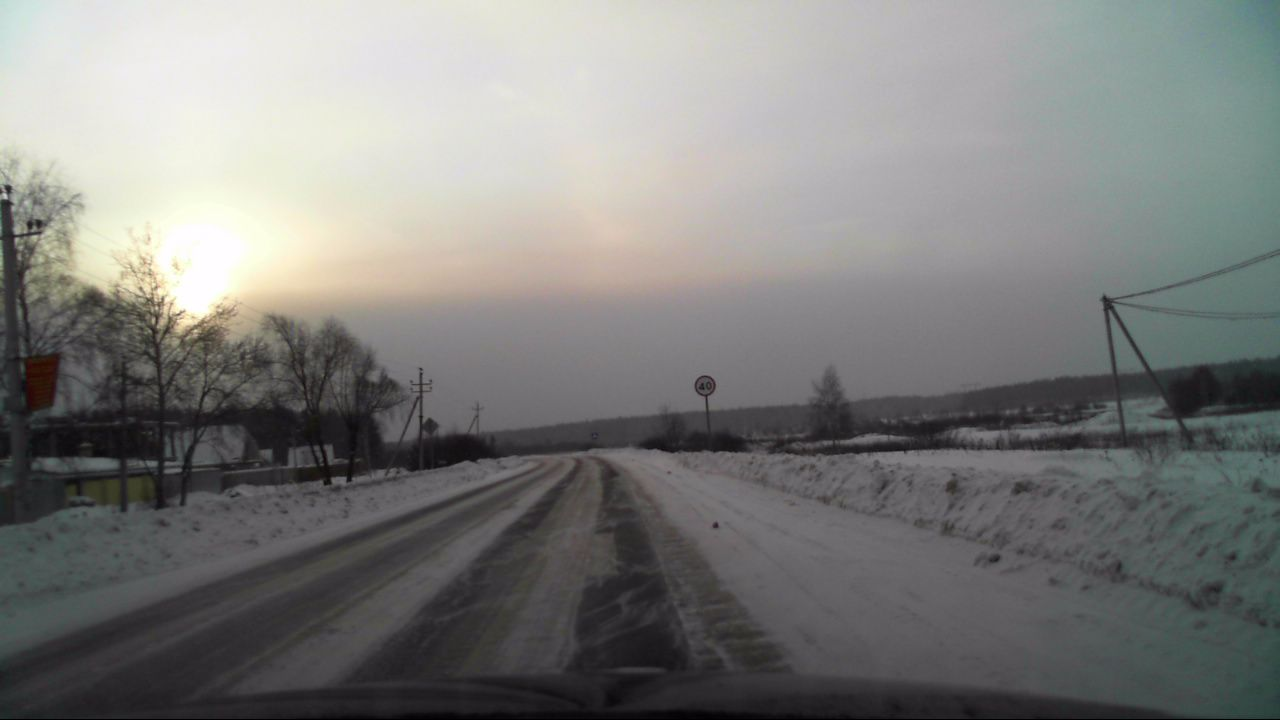speed_warning_40: (694, 375, 716, 396)
